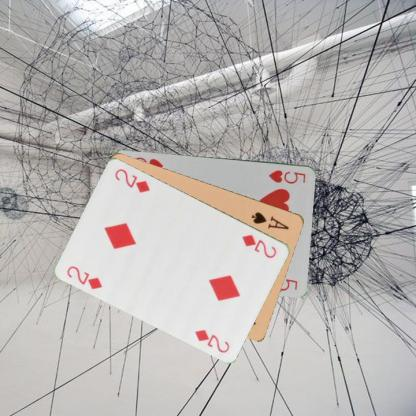2d: (64, 263, 104, 291), (239, 232, 279, 259)
5h: (266, 167, 307, 185)
As: (249, 209, 291, 231)
